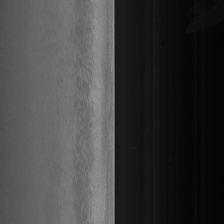silk_spot: (76, 88, 99, 157)
